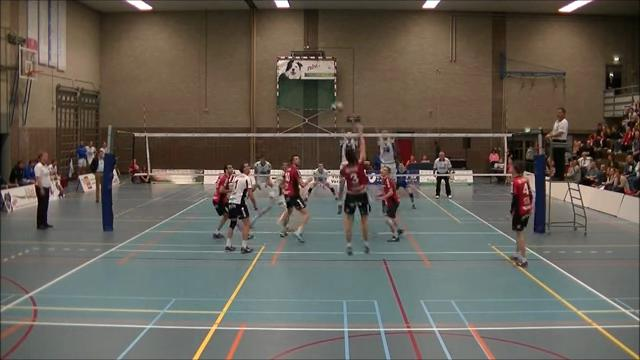attacco: (331, 120, 375, 259)
muro: (374, 116, 404, 208), (335, 125, 367, 209)
